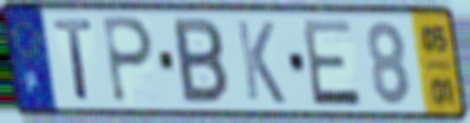8: (364, 19, 414, 108)
B: (170, 15, 232, 108)
E: (298, 17, 365, 109)
K: (233, 17, 288, 107)
P: (100, 14, 156, 107)
T: (51, 17, 97, 104)
